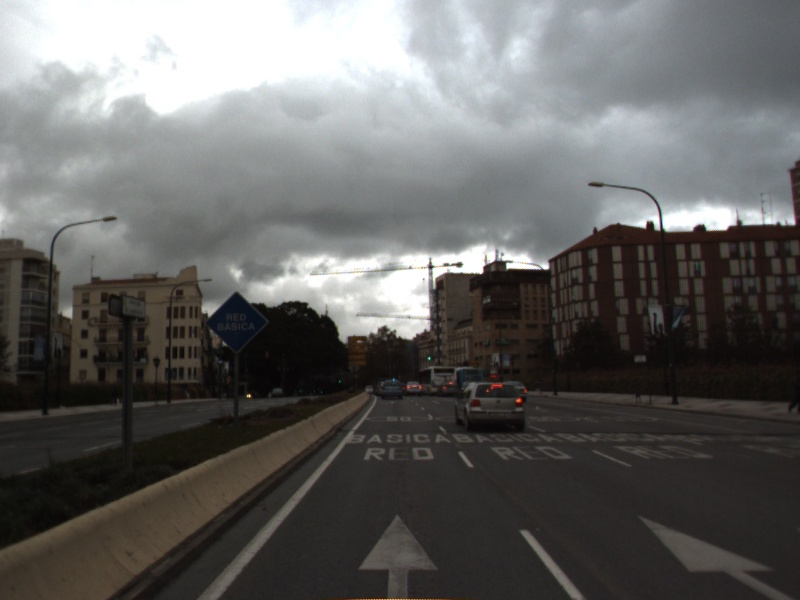STRAIGHT: (632, 510, 800, 600), (354, 508, 444, 600)
